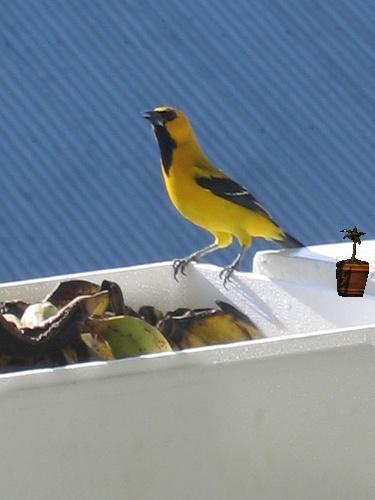tampered: (337, 227, 369, 297)
